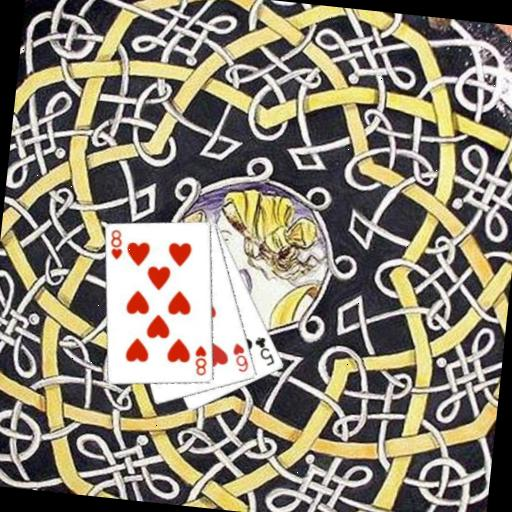5C: (249, 333, 279, 368)
6H: (228, 340, 253, 375)
8H: (190, 342, 210, 378), (106, 226, 126, 262)
